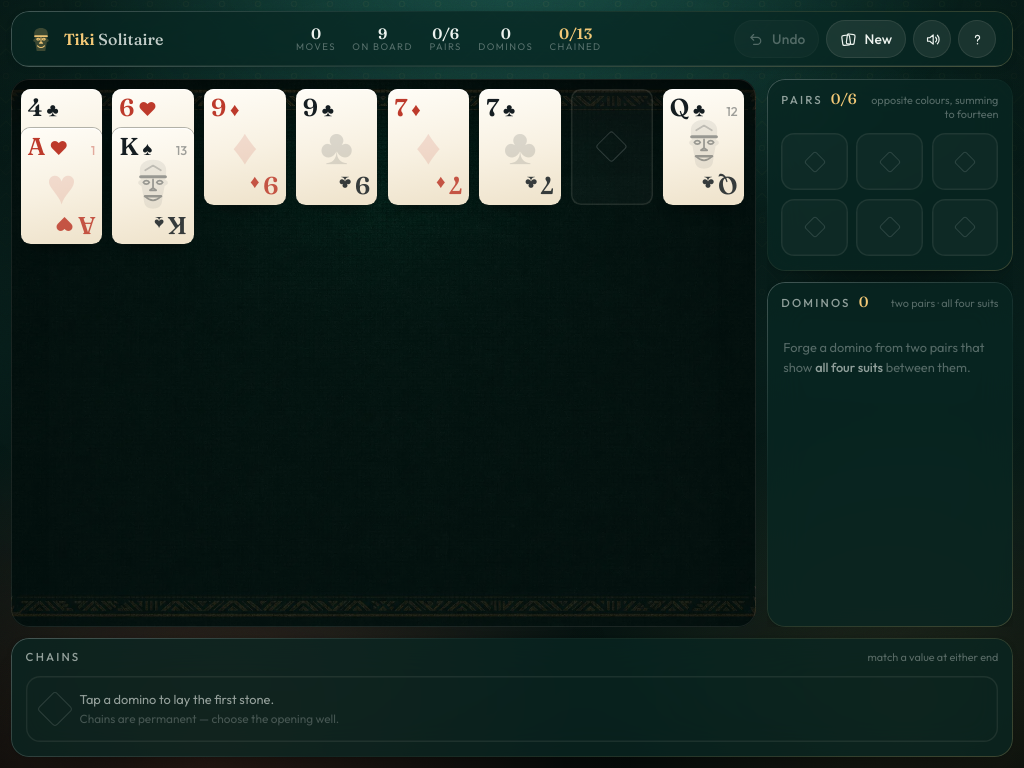
Test: <App /> › lifts a pair off the table and into the workyard
The width and height of the screenshot is (1024, 768).
Click the button named "A of ♥" at (61, 186), box top-left (21, 128), bottom-right (102, 244)
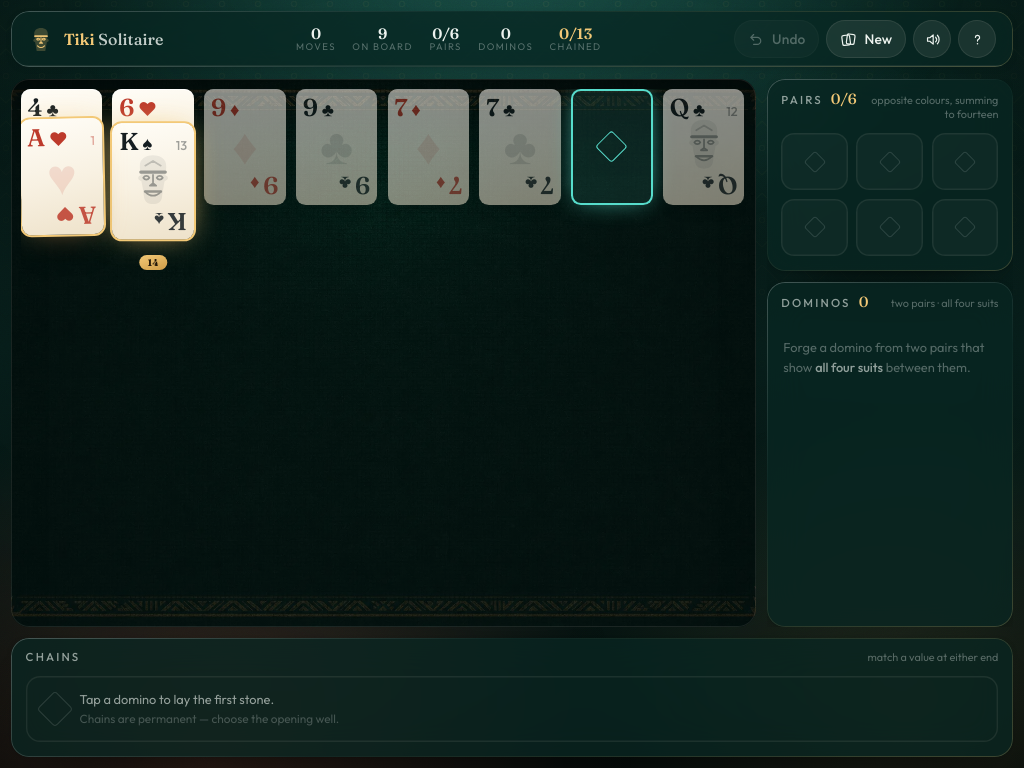
Click the button named "K of ♠" at (153, 181), box top-left (112, 124), bottom-right (194, 239)
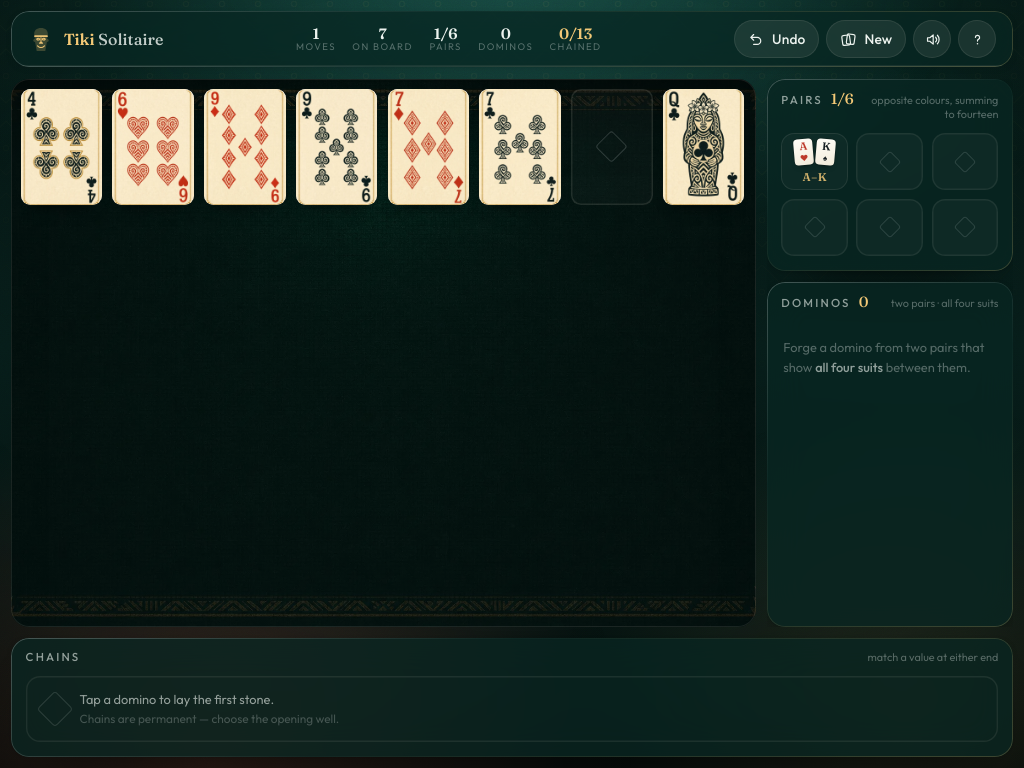
Check: the button named "Pair A–K" is shown, box top-left (781, 133), bottom-right (848, 190)
